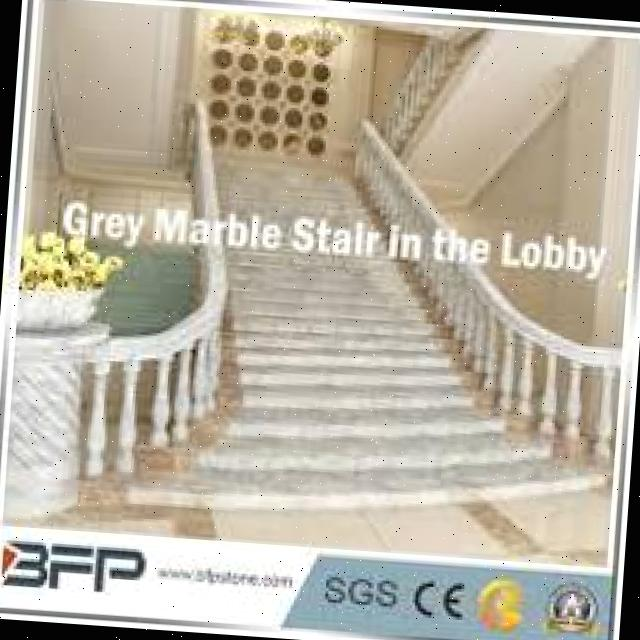stairs: (26, 82, 589, 501)
